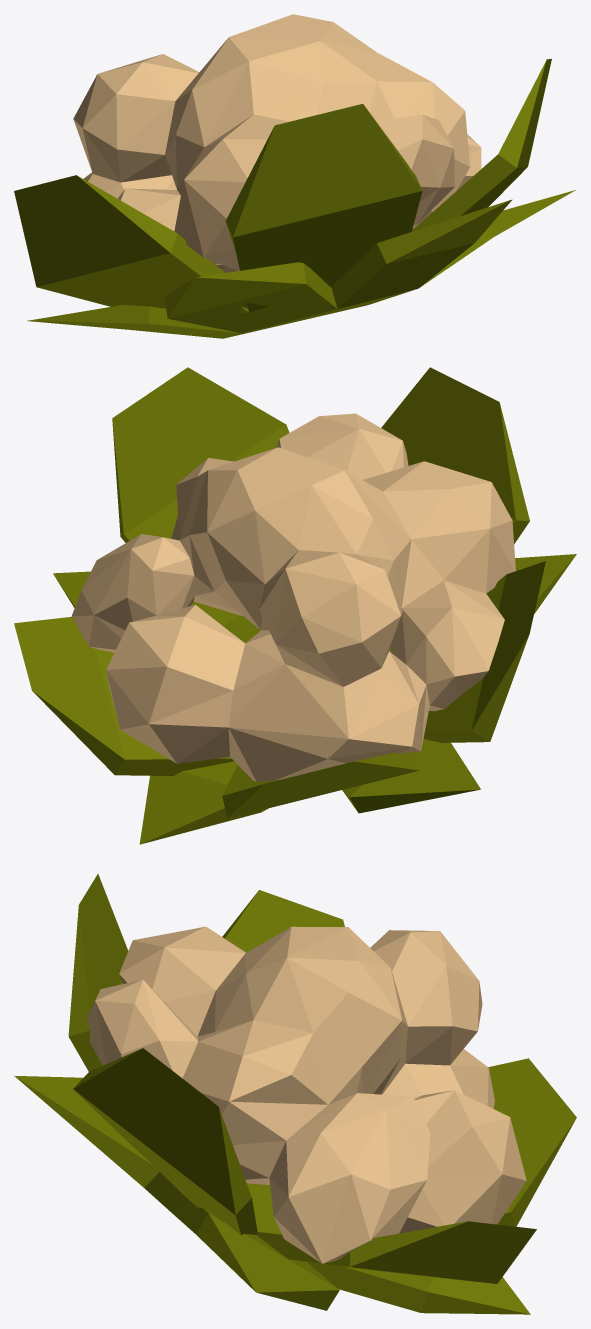
File: Cauliflower.glb
The picture shows the model from 3 angles, top to bottom: view 1: azimuth 30°, elevation 25°; view 2: azimuth 150°, elevation 25°; view 3: azimuth 270°, elevation 25°; orthographic projection. The views are drawn at different scales.
Parts seen in each view (by area): view 1: Cauliflower; view 2: Cauliflower; view 3: Cauliflower.
Part boxes in pixels (box(x1,y1,x2,y2)): Cauliflower: box(14, 14, 575, 338); Cauliflower: box(14, 367, 576, 844); Cauliflower: box(14, 874, 576, 1314).
Size of the model in its own units: 0.287 by 0.1817 by 0.252.
